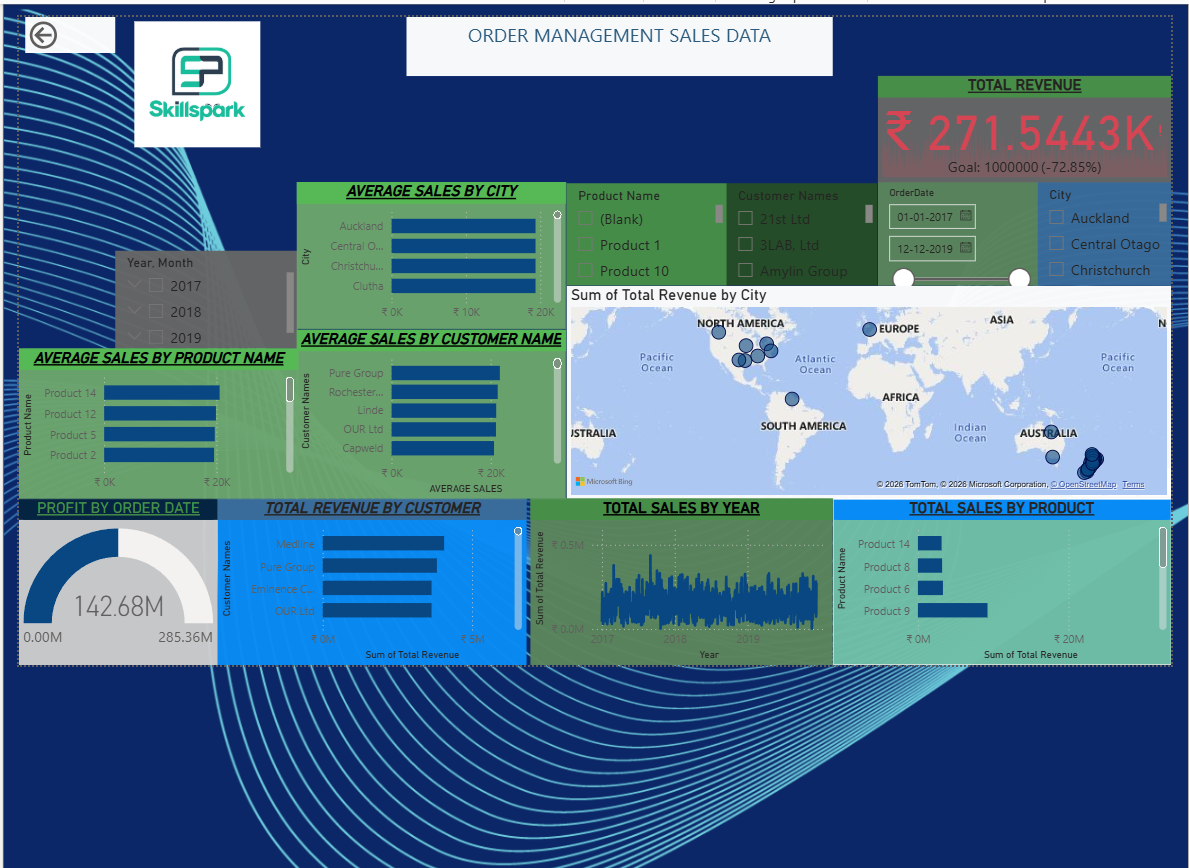

The dashboard page shown, as its layout file describes it:
{"tool":"powerbi","page":{"name":"Page 1","canvas":[1280,720],"ordinal":0},"visuals":[{"type":"barChart","title":"TOTAL SALES BY PRODUCT","fields":{"Category":["Products_Data.Product Name"],"Y":["Sum(Sales_Data.Total Revenue)"]},"box":[904.3,535.2,376,185.2],"z":0},{"type":"map","fields":{"Size":["Sum(Sales_Data.Total Revenue)"],"Category":["Regions_Table.City"]},"box":[607.9,299.1,672.4,237.4],"z":1000},{"type":"lineChart","title":"TOTAL SALES BY YEAR","fields":{"Y":["Sum(Sales_Data.Total Revenue)"],"Category":["Sales_Data.OrderDate.Variation.Date Hierarchy.Year","Sales_Data.OrderDate.Variation.Date Hierarchy.Month","Sales_Data.OrderDate.Variation.Date Hierarchy.Day"]},"box":[568.1,535.2,336.2,185.2],"z":2000},{"type":"slicer","fields":{"Values":["Sales_Data.OrderDate"]},"box":[953.7,183.9,178.4,115.3],"z":3000},{"type":"actionButton","box":[0,0,100,40],"z":4000},{"type":"slicer","fields":{"Values":["Regions_Table.City"]},"box":[1132.1,183.9,148.2,115.3],"z":5000},{"type":"slicer","fields":{"Values":["Products_Data.Product Name"]},"box":[607.9,185.2,178.4,113.9],"z":6000},{"type":"slicer","fields":{"Values":["Customer_Data.Customer Names"]},"box":[786.3,185.2,167.4,113.9],"z":7000},{"type":"slicer","fields":{"Values":["Sales_Data.OrderDate.Variation.Date Hierarchy.Year","Sales_Data.OrderDate.Variation.Date Hierarchy.Month"]},"box":[107,259.3,203.1,108.4],"z":8000},{"type":"barChart","title":"TOTAL REVENUE BY CUSTOMER","fields":{"Category":["Customer_Data.Customer Names"],"Y":["Sum(Sales_Data.Total Revenue)"]},"box":[220.9,535.2,343.1,185.2],"z":9000},{"type":"kpi","title":"TOTAL REVENUE","fields":{"Indicator":["Sum(Sales_Data.Total Revenue)"],"TrendLine":["Sales_Data.OrderDate"],"Goal":["Customer_Data.TARGET RVENUE"]},"box":[953.7,65.9,326.6,118],"z":10000},{"type":"gauge","title":"PROFIT BY ORDER DATE","fields":{"Y":["Sum(Sales_Data.profit)"]},"box":[0,535.2,220.9,185.2],"z":11000},{"type":"barChart","title":"AVERAGE SALES BY CUSTOMER NAME","fields":{"Category":["Customer_Data.Customer Names"],"Y":["Regions_Table.AVERAGE SALES"]},"box":[308.7,347.2,299.1,188],"z":12000},{"type":"barChart","title":"AVERAGE SALES BY CITY","fields":{"Y":["Regions_Table.AVERAGE SALES"],"Category":["Regions_Table.City"]},"box":[308.7,183.9,299.1,163.3],"z":13000},{"type":"barChart","title":"AVERAGE SALES BY PRODUCT NAME","fields":{"Y":["Regions_Table.AVERAGE SALES"],"Category":["Products_Data.Product Name"]},"box":[0,367.8,310.1,167.4],"z":14000},{"type":"textbox","box":[430.9,0,473.4,65.9],"z":15000},{"type":"image","box":[38.4,0,282.7,149.6],"z":16000}]}

Visuals, with their boxes in screenshot pixels (x1, y1, x2, y2):
"TOTAL SALES BY PRODUCT" barChart: box=[828, 500, 1173, 669]
map - Sum(Sales_Data.Total Revenue) x Regions_Table.City: box=[557, 283, 1173, 501]
"TOTAL SALES BY YEAR" lineChart: box=[520, 500, 828, 669]
slicer - Sales_Data.OrderDate: box=[874, 178, 1037, 283]
actionButton: box=[0, 9, 92, 46]
slicer - Regions_Table.City: box=[1037, 178, 1173, 283]
slicer - Products_Data.Product Name: box=[557, 179, 720, 283]
slicer - Customer_Data.Customer Names: box=[720, 179, 874, 283]
slicer - Sales_Data.OrderDate.Variation.Date Hierarchy.Year x Sales_Data.OrderDate.Variation.Date Hierarchy.Month: box=[98, 247, 284, 346]
"TOTAL REVENUE BY CUSTOMER" barChart: box=[202, 500, 517, 669]
"TOTAL REVENUE" kpi: box=[874, 70, 1173, 178]
"PROFIT BY ORDER DATE" gauge: box=[0, 500, 202, 669]
"AVERAGE SALES BY CUSTOMER NAME" barChart: box=[283, 327, 557, 500]
"AVERAGE SALES BY CITY" barChart: box=[283, 178, 557, 327]
"AVERAGE SALES BY PRODUCT NAME" barChart: box=[0, 346, 284, 500]
textbox: box=[395, 9, 828, 70]
image: box=[35, 9, 294, 146]
